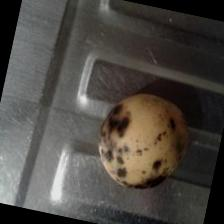Mango Overripe: (78, 77, 198, 205)
